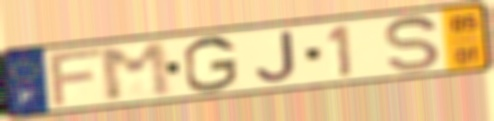1: (325, 24, 354, 80)
F: (47, 45, 108, 110)
G: (180, 34, 241, 95)
J: (253, 29, 298, 85)
M: (95, 39, 177, 104)
S: (382, 14, 444, 74)
